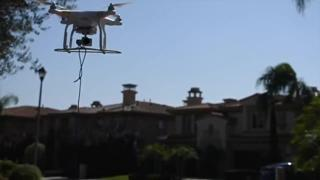UAV: (205, 0, 320, 149)
